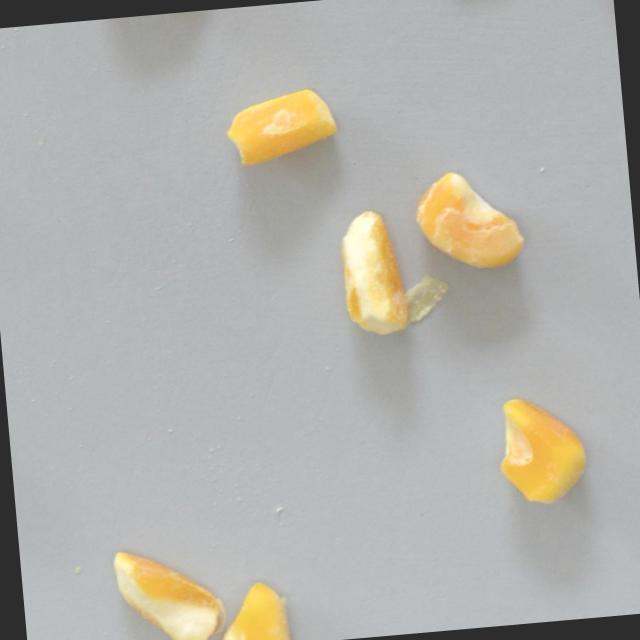dañado: (409, 162, 530, 276), (104, 538, 232, 640), (489, 389, 593, 512), (215, 82, 347, 172), (332, 204, 419, 340), (173, 573, 294, 640)
